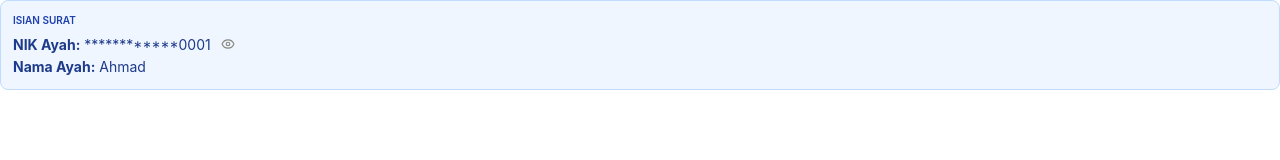
Test case: LetterExtrasPanel › shows masked NIK fields with a logged reveal and other fields as-is
Check: the text "************0001" is shown, box [84,34,211,54]
Check: the list item "Ahmad" is shown, box [99,58,146,75]
Click the button named "Tampilkan NIK Ayah" at (228, 44), box [216,32,240,56]
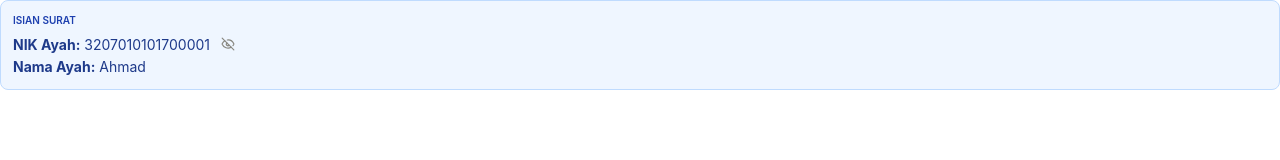
Check: the text "3207010101700001" is shown, box [84,34,210,54]
